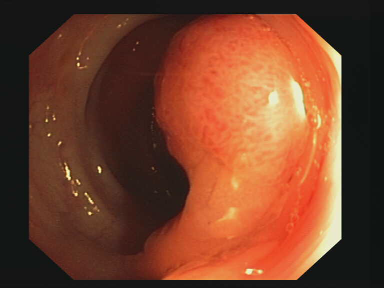polyp: (140, 23, 319, 219)
